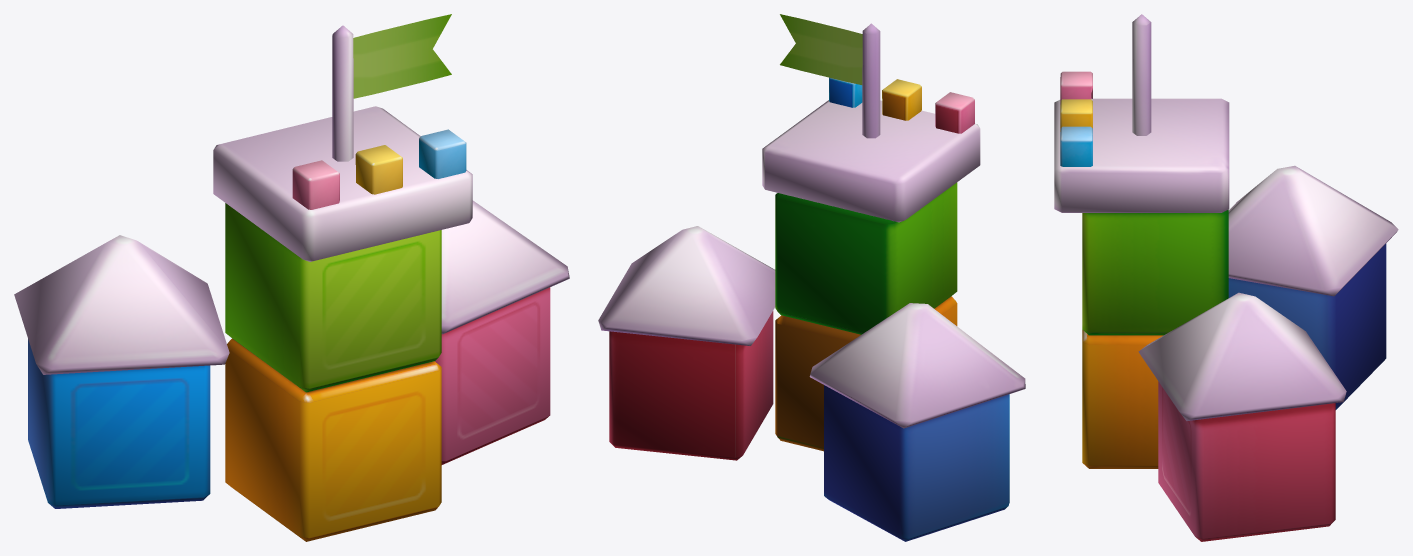
File: model_btn_mini_game_towers.fbx
3 views of the same model, side by side, from view 1: azimuth 30°, elevation 25°; view 2: azimuth 150°, elevation 25°; view 3: azimuth 270°, elevation 25° (orthographic). The views are drawn at different scales.
Parts seen in each view (by area): view 1: model_btn_mini_game_towers; view 2: model_btn_mini_game_towers; view 3: model_btn_mini_game_towers.
Part boxes in pixels (x1,y1,x2,y2): model_btn_mini_game_towers: [14, 14, 569, 541]; model_btn_mini_game_towers: [598, 14, 1025, 541]; model_btn_mini_game_towers: [1054, 14, 1398, 541].
Bounding box in the file's own units: 88.06 × 80.86 × 59.01.
